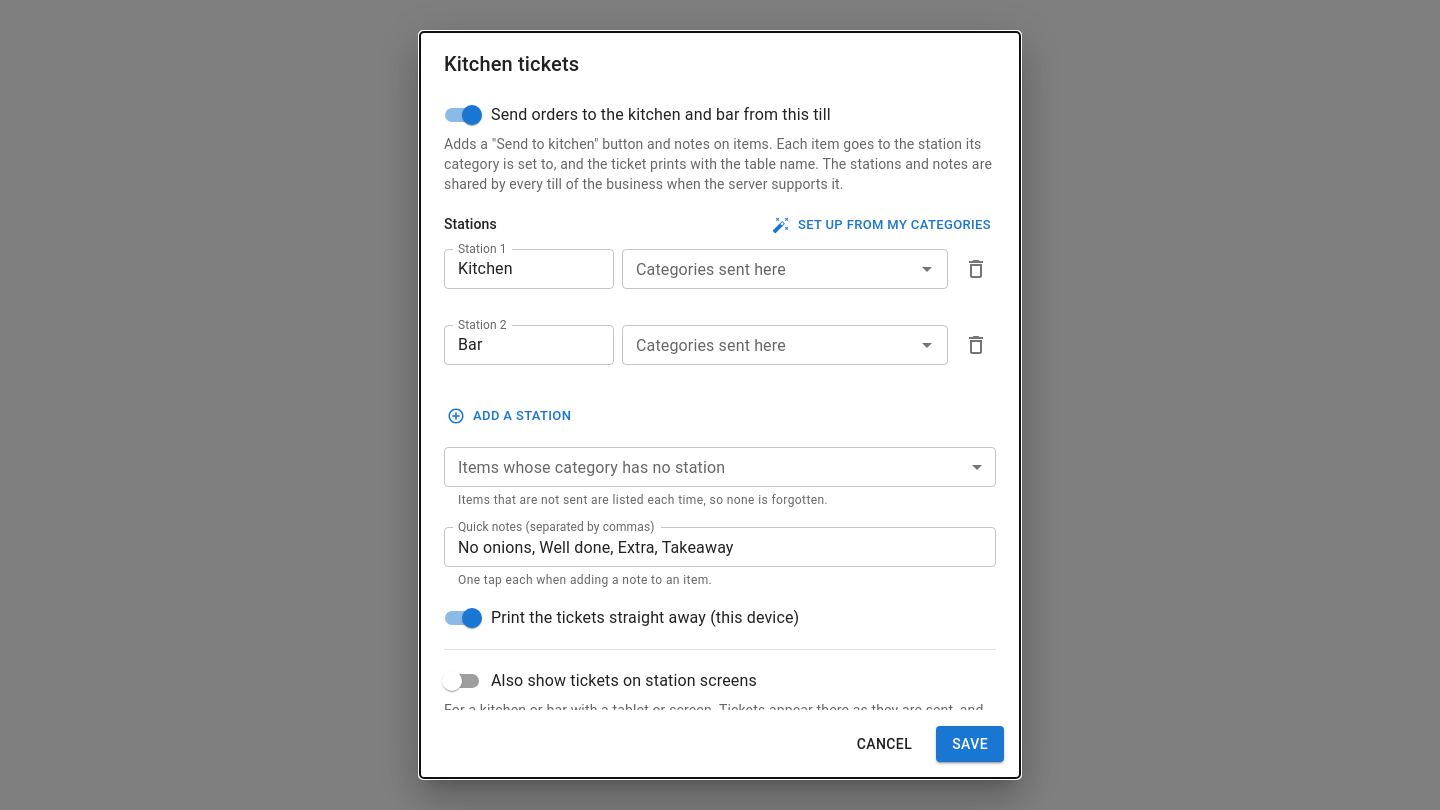
Test: KitchenSettingsDialog › suggests which categories go where, from their names
Click the button "Set up from my categories": click(882, 225) [769,210,996,241]
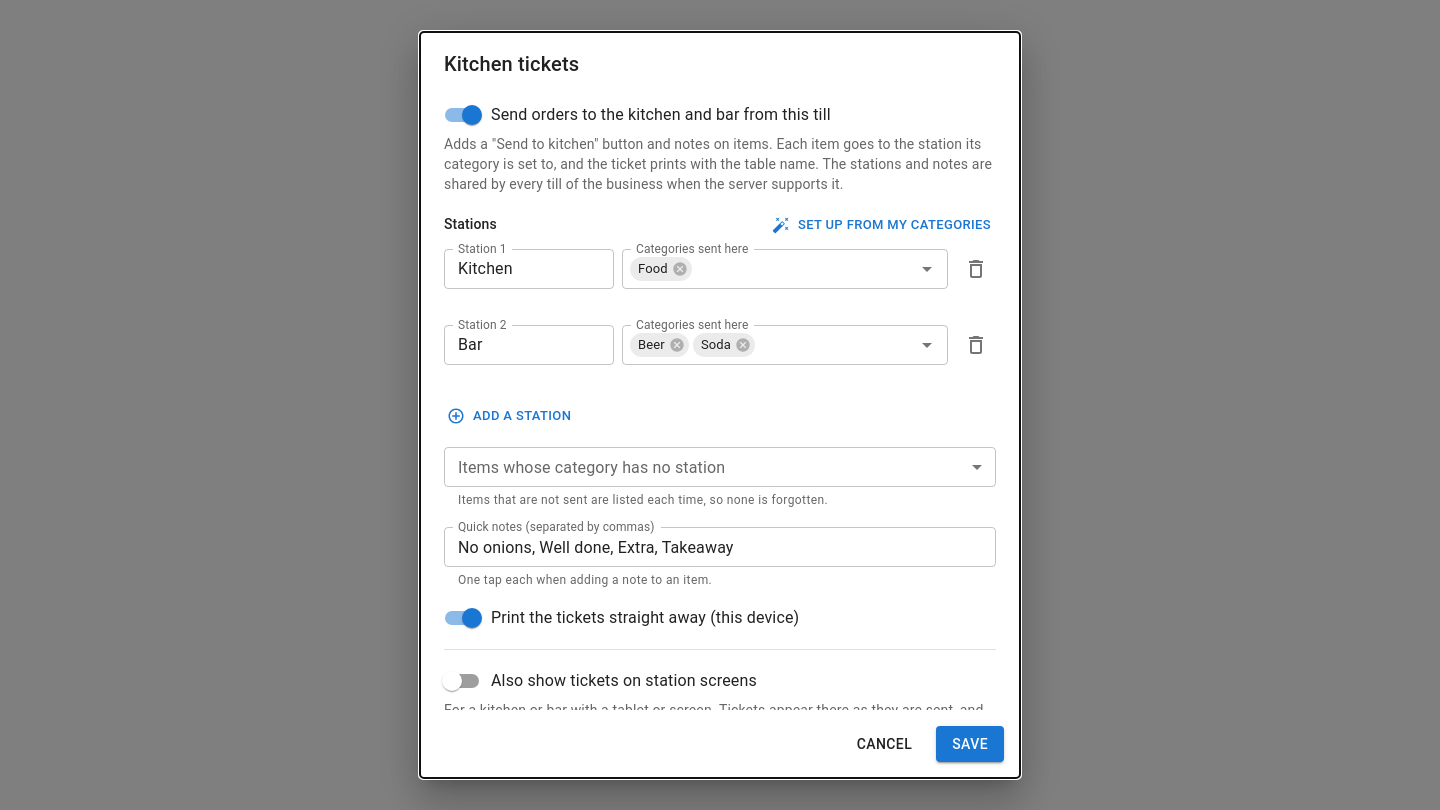
Expected: the text "Food" is shown once, [638,261,668,276]
Expected: the text "Beer" is shown once, [638,337,665,352]
Expected: the text "Soda" is shown once, [701,337,731,352]
